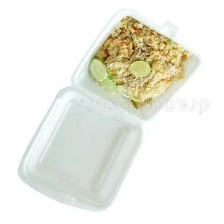foam_box: (14, 4, 208, 216)
